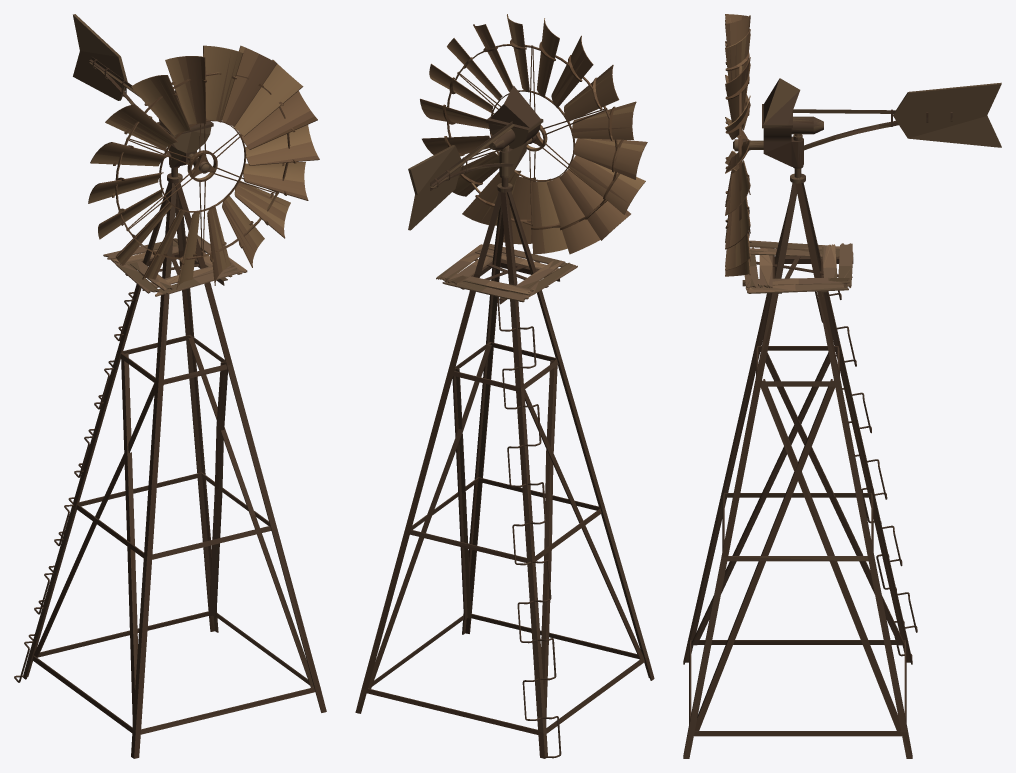
File: windmill.glb
The picture shows the model from 3 angles, left to right: view 1: azimuth 30°, elevation 25°; view 2: azimuth 150°, elevation 25°; view 3: azimuth 270°, elevation 25°; orthographic projection. The views are drawn at different scales.
Visible parts, largest first — view 1: body, wheel; view 2: body, wheel; view 3: body, wheel.
Boxes of the visible parts, x1,y1,x2,y2 form: body: (14,14,326,758); wheel: (88,45,319,289); body: (355,85,654,758); wheel: (420,14,647,254); body: (683,78,1001,758); wheel: (725,14,750,276).
Bounding box in the file's own units: 4.14 × 12 × 5.06.
